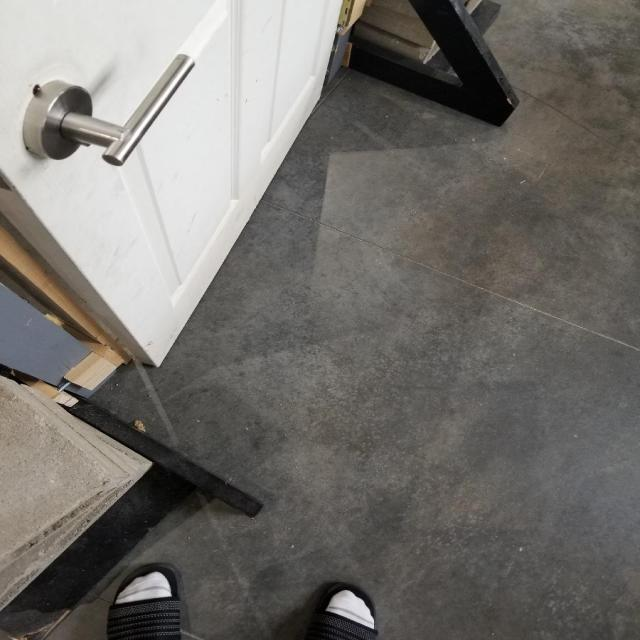door: (17, 49, 198, 177)
